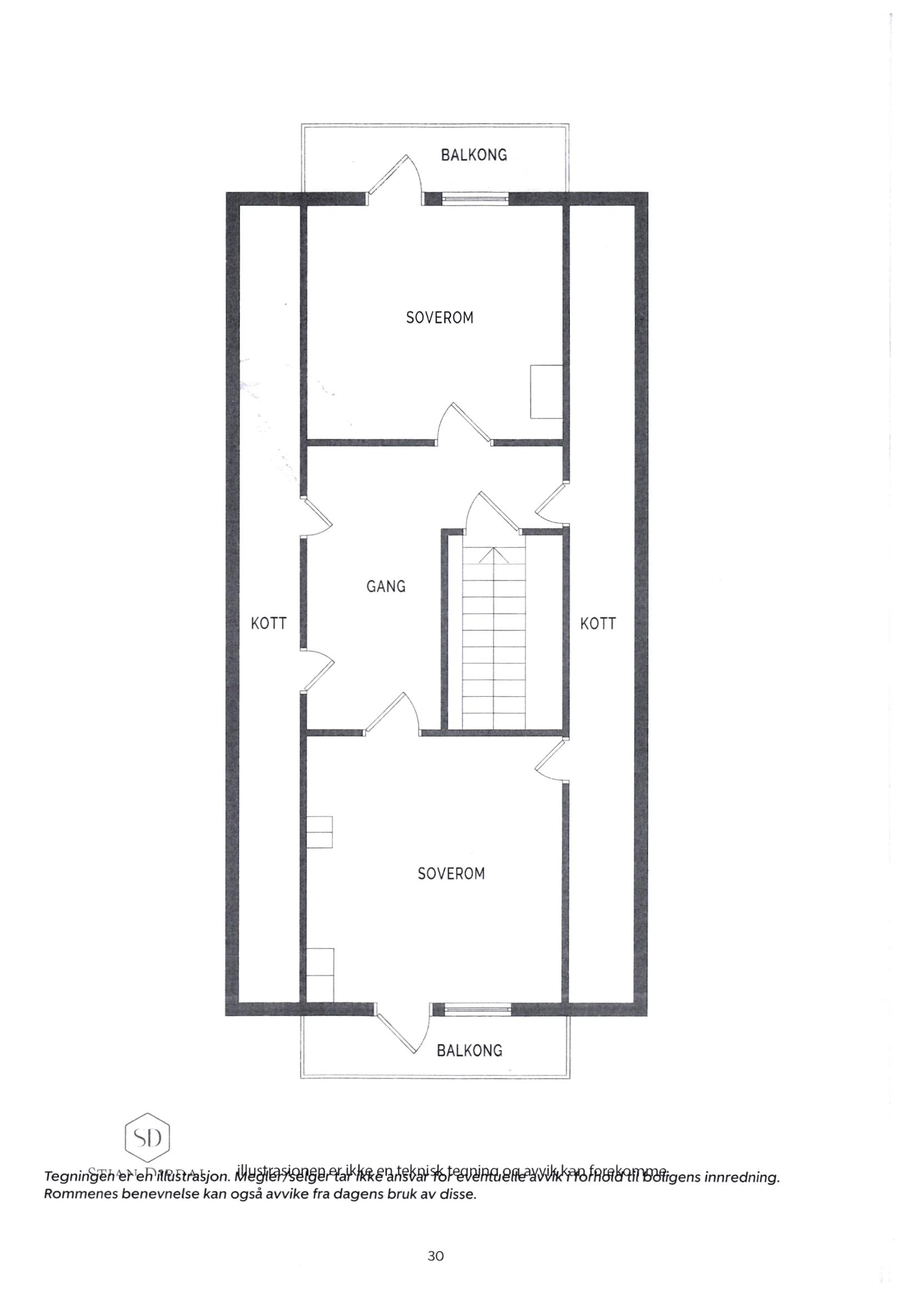plantegning: (223, 120, 652, 1084)
